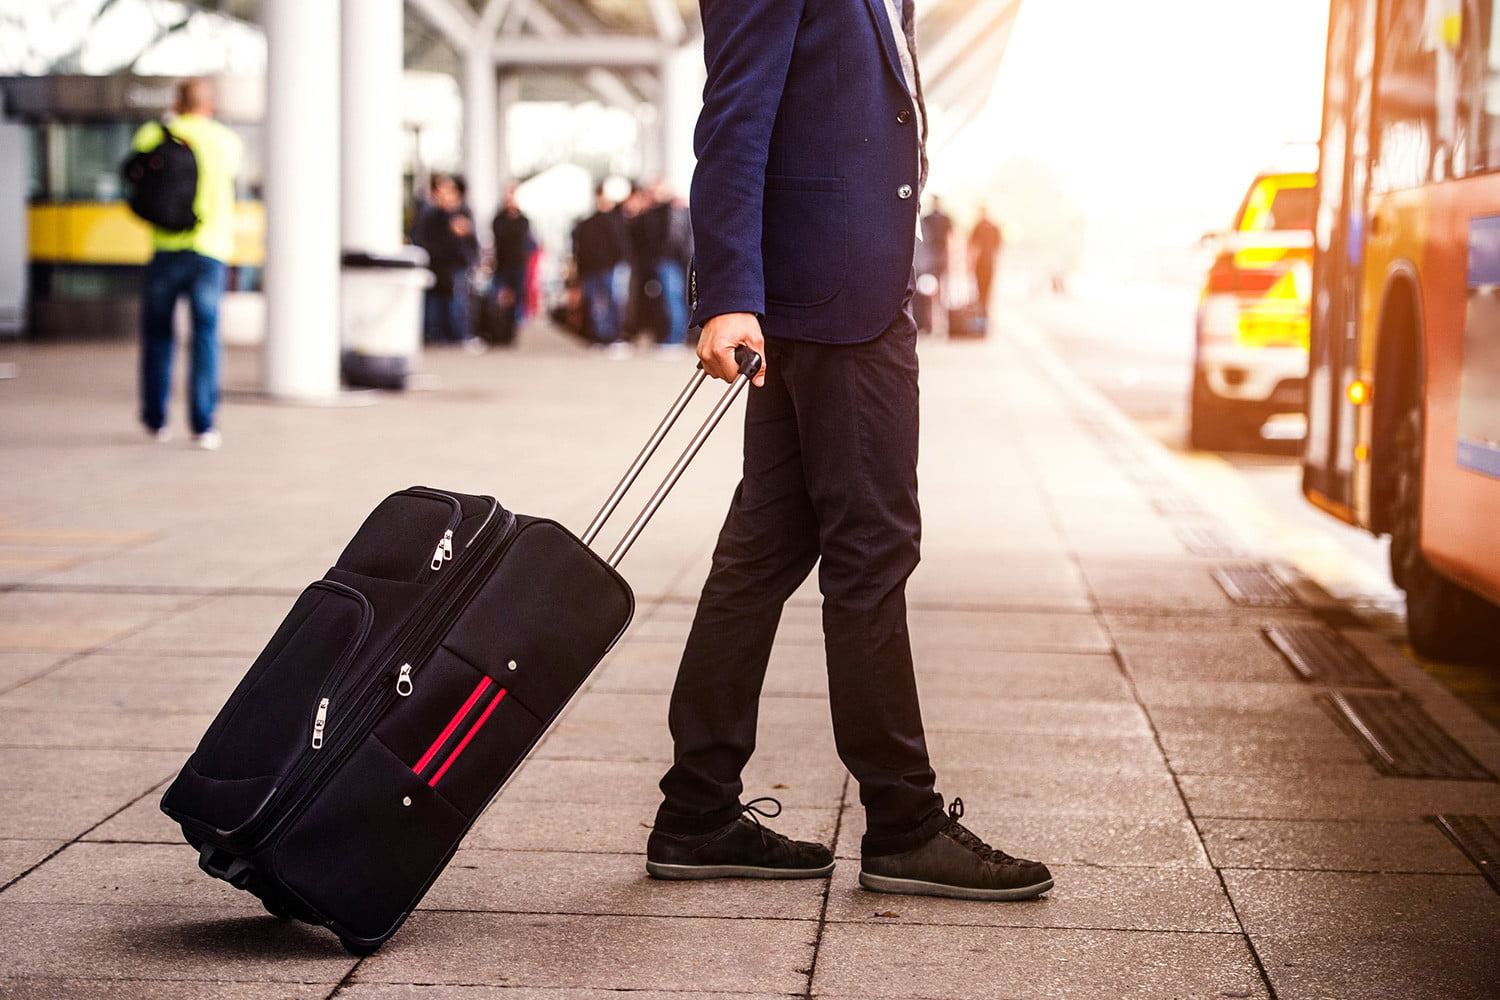luggage: (161, 362, 705, 956)
